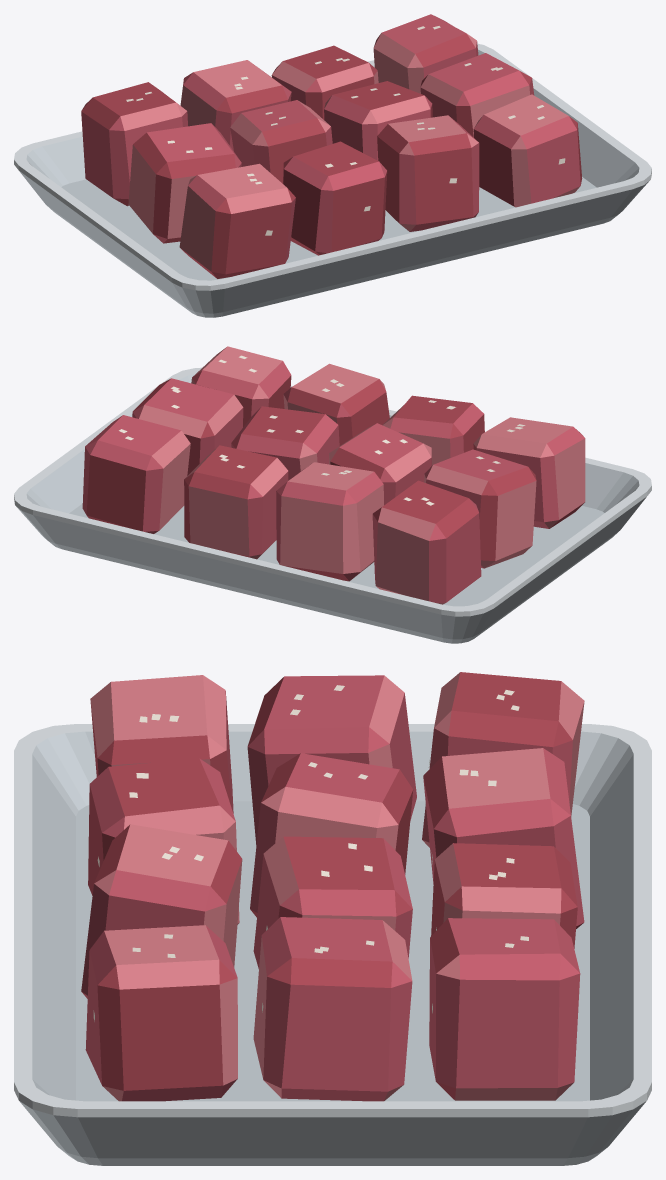
The model's file is lamb-tray.glb.
3 renders of one model, top to bottom at view 1: azimuth 30°, elevation 25°; view 2: azimuth 150°, elevation 25°; view 3: azimuth 270°, elevation 25°, orthographic. The views are drawn at different scales.
Parts seen in each view (by area): view 1: lamb-tray; view 2: lamb-tray; view 3: lamb-tray.
Part boxes in pixels (x1,y1,x2,y2): lamb-tray: (14,14,651,317); lamb-tray: (14,346,651,643); lamb-tray: (14,672,651,1165).
Size of the model in its own units: 0.5 by 0.1132 by 0.35.
